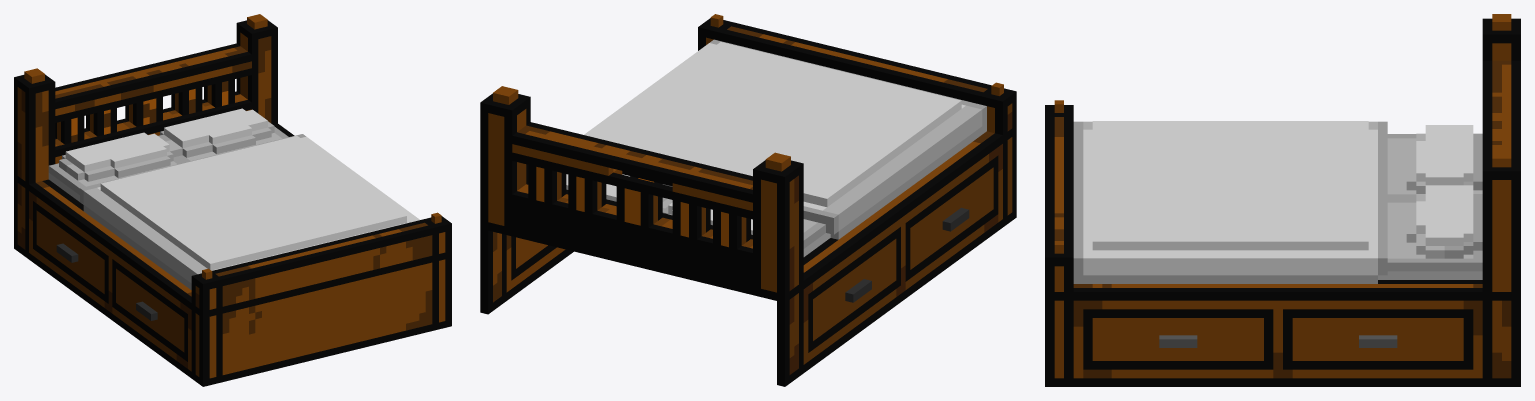
The model's file is MasterBed.obj.
The picture shows the model from 3 angles, left to right: view 1: azimuth 30°, elevation 25°; view 2: azimuth 150°, elevation 25°; view 3: azimuth 270°, elevation 25°; orthographic projection. The views are drawn at different scales.
Parts seen in each view (by area): view 1: ObjObject; view 2: ObjObject; view 3: ObjObject.
Part boxes in pixels (x1,y1,x2,y2): ObjObject: (14, 14, 451, 386); ObjObject: (480, 14, 1016, 386); ObjObject: (1045, 14, 1520, 386).
Bounding box in the file's own units: 4 × 2.6 × 5.
Materials: 1 (1 with a texture image).
